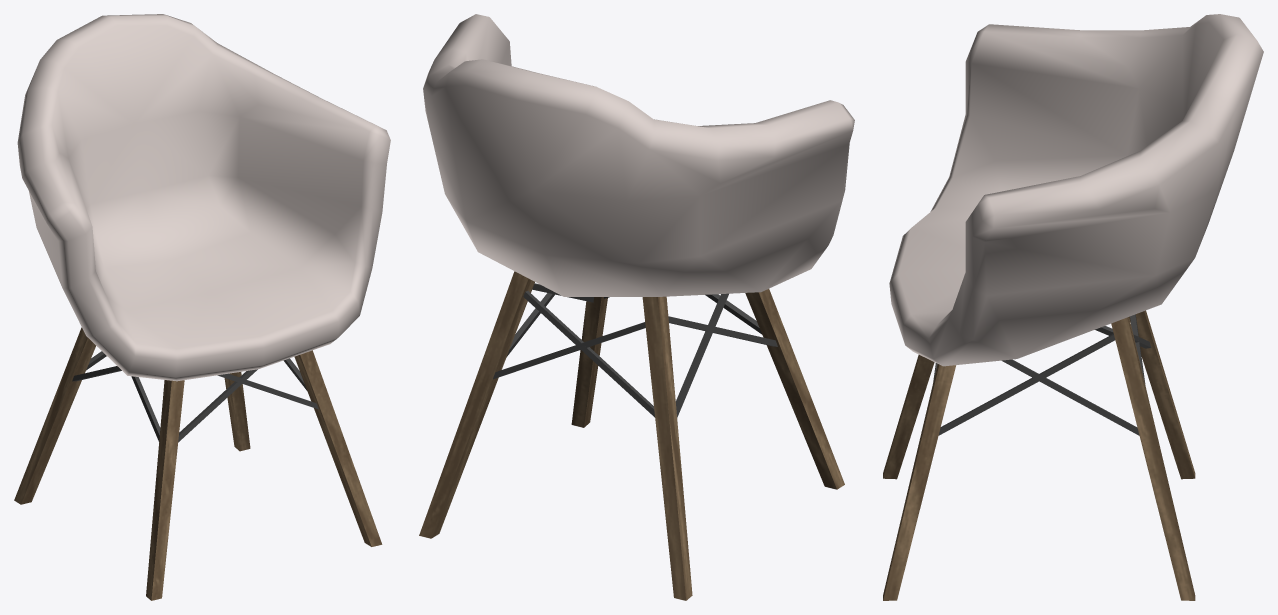
Rendered from chair_040.fbx.
3 renders of one model, left to right at view 1: azimuth 30°, elevation 25°; view 2: azimuth 150°, elevation 25°; view 3: azimuth 270°, elevation 25°, orthographic. The views are drawn at different scales.
Parts seen in each view (by area): view 1: chair_040; view 2: chair_040; view 3: chair_040.
Boxes of the visible parts, left/top/right/bottom form: chair_040: left=14, top=14, right=390, bottom=600; chair_040: left=419, top=14, right=854, bottom=600; chair_040: left=883, top=14, right=1263, bottom=600.
Size of the model in its own units: 95.49 by 81 by 118.
